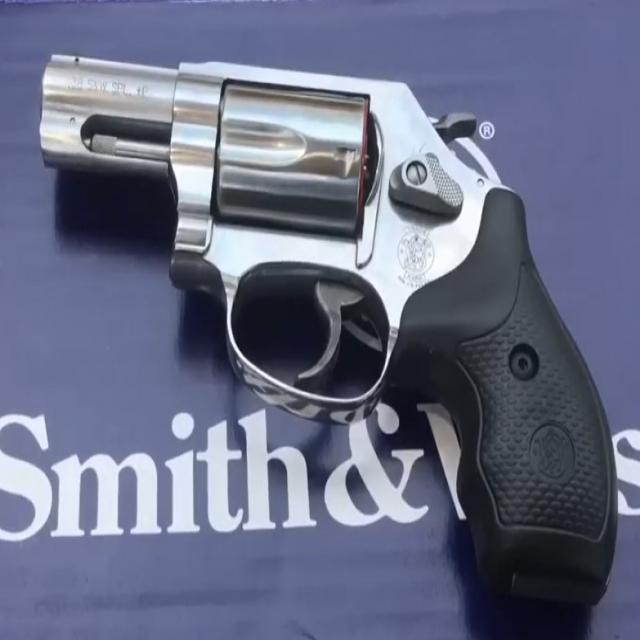revolver: (36, 46, 628, 630)
